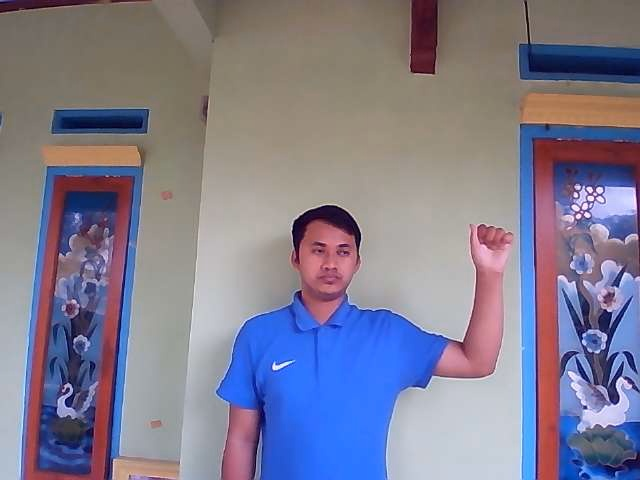A: (468, 222, 515, 274)
